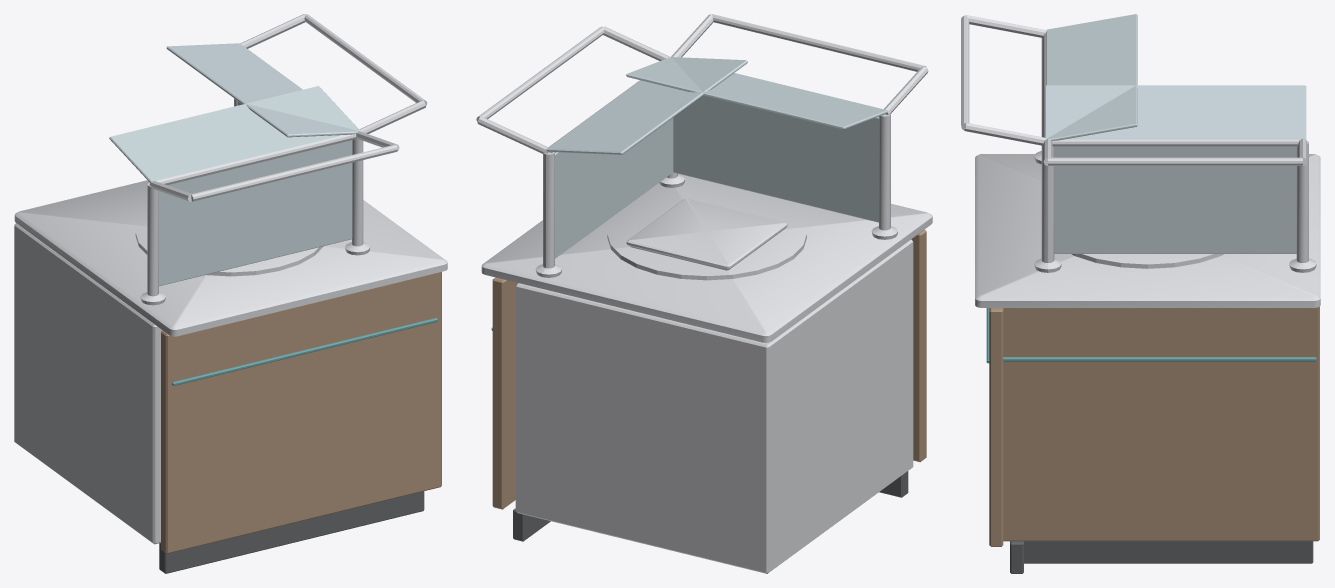
Rendered from hotel-and-resort-operations-buffet-counter-corner-c942a4cf__25899.glb.
3 renders of one model, left to right at view 1: azimuth 30°, elevation 25°; view 2: azimuth 150°, elevation 25°; view 3: azimuth 270°, elevation 25°, orthographic. The views are drawn at different scales.
Visible parts, largest first — view 1: buffet-counter-corner; view 2: buffet-counter-corner; view 3: buffet-counter-corner.
Part boxes in pixels (x1,y1,x2,y2): buffet-counter-corner: (14, 14, 447, 573); buffet-counter-corner: (476, 14, 932, 573); buffet-counter-corner: (961, 14, 1320, 573).
Size of the model in its own units: 1.04 by 1.36 by 1.04.
